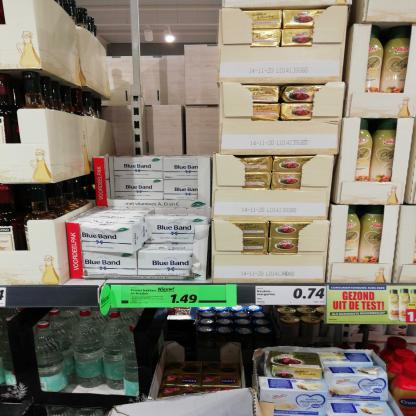prtg: (257, 287, 328, 306), (130, 286, 200, 305)
